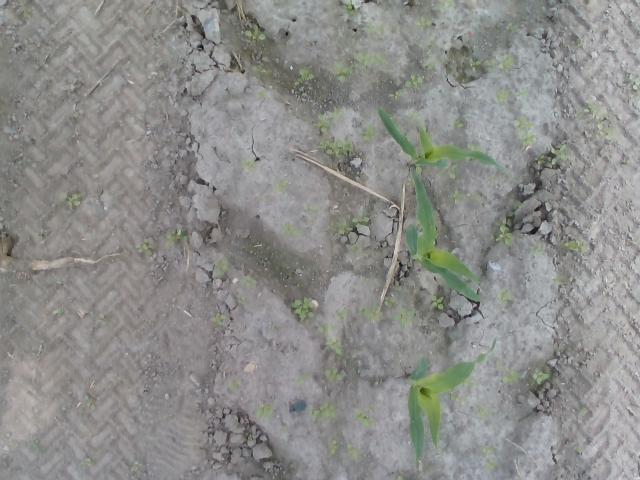Maize: (395, 333, 497, 476), (404, 165, 484, 304), (376, 103, 512, 176)
Weeds: (320, 137, 353, 158), (470, 55, 512, 70), (308, 402, 337, 420), (312, 114, 335, 136), (293, 297, 316, 319), (392, 308, 417, 327), (354, 52, 384, 66), (496, 223, 513, 246), (481, 446, 496, 472), (324, 337, 344, 356), (531, 370, 550, 386), (214, 256, 230, 275), (336, 62, 352, 81), (243, 29, 266, 42), (362, 304, 379, 321), (282, 222, 302, 236), (62, 194, 82, 208), (403, 74, 424, 87), (353, 408, 368, 426), (323, 368, 342, 382), (566, 239, 586, 252), (166, 232, 182, 248), (415, 16, 432, 30), (501, 371, 521, 382), (300, 68, 315, 82), (136, 239, 150, 254), (255, 404, 272, 416), (512, 116, 528, 128), (332, 222, 348, 234), (328, 437, 338, 456), (448, 190, 461, 204), (430, 296, 444, 309), (348, 445, 360, 460), (558, 144, 569, 160), (447, 164, 458, 180), (496, 90, 510, 102), (498, 290, 512, 302), (350, 216, 370, 224), (240, 276, 256, 286), (240, 158, 256, 168), (252, 65, 264, 78), (522, 134, 536, 145), (320, 323, 335, 333), (363, 125, 373, 140), (350, 243, 362, 255), (384, 298, 398, 308), (368, 24, 382, 34), (532, 154, 546, 164), (276, 178, 286, 192), (227, 380, 240, 390), (452, 118, 463, 129), (52, 306, 64, 316), (30, 438, 41, 448), (532, 244, 542, 254), (212, 314, 222, 324), (336, 310, 346, 320), (343, 3, 353, 12), (479, 407, 489, 416), (590, 103, 600, 112), (388, 92, 399, 100), (238, 297, 246, 304)
